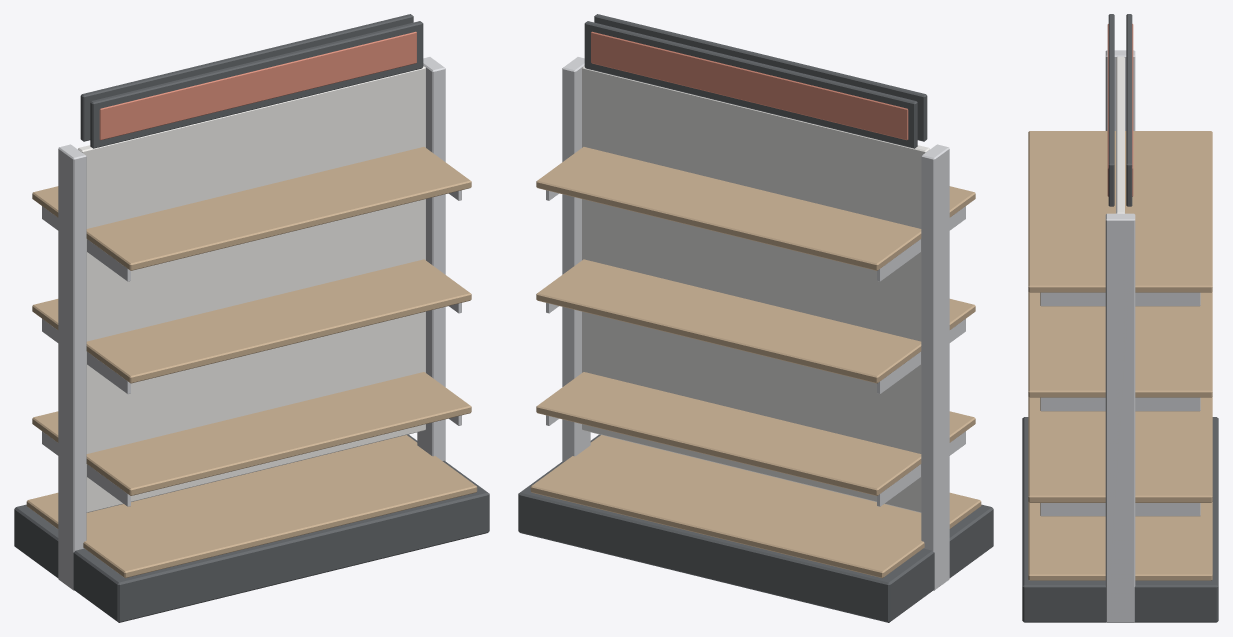
The model's file is SM_Retail_25243_GondolaWithHeader.fbx.
The picture shows the model from 3 angles, left to right: view 1: azimuth 30°, elevation 25°; view 2: azimuth 150°, elevation 25°; view 3: azimuth 270°, elevation 25°; orthographic projection. The views are drawn at different scales.
Parts seen in each view (by area): view 1: SM_Retail_25243_GondolaWithHeader; view 2: SM_Retail_25243_GondolaWithHeader; view 3: SM_Retail_25243_GondolaWithHeader.
Boxes of the visible parts, <box> form: SM_Retail_25243_GondolaWithHeader: <box>14,14,489,622</box>; SM_Retail_25243_GondolaWithHeader: <box>518,14,993,622</box>; SM_Retail_25243_GondolaWithHeader: <box>1022,14,1218,622</box>.
Size of the model in its own units: 135 by 66 by 167.
